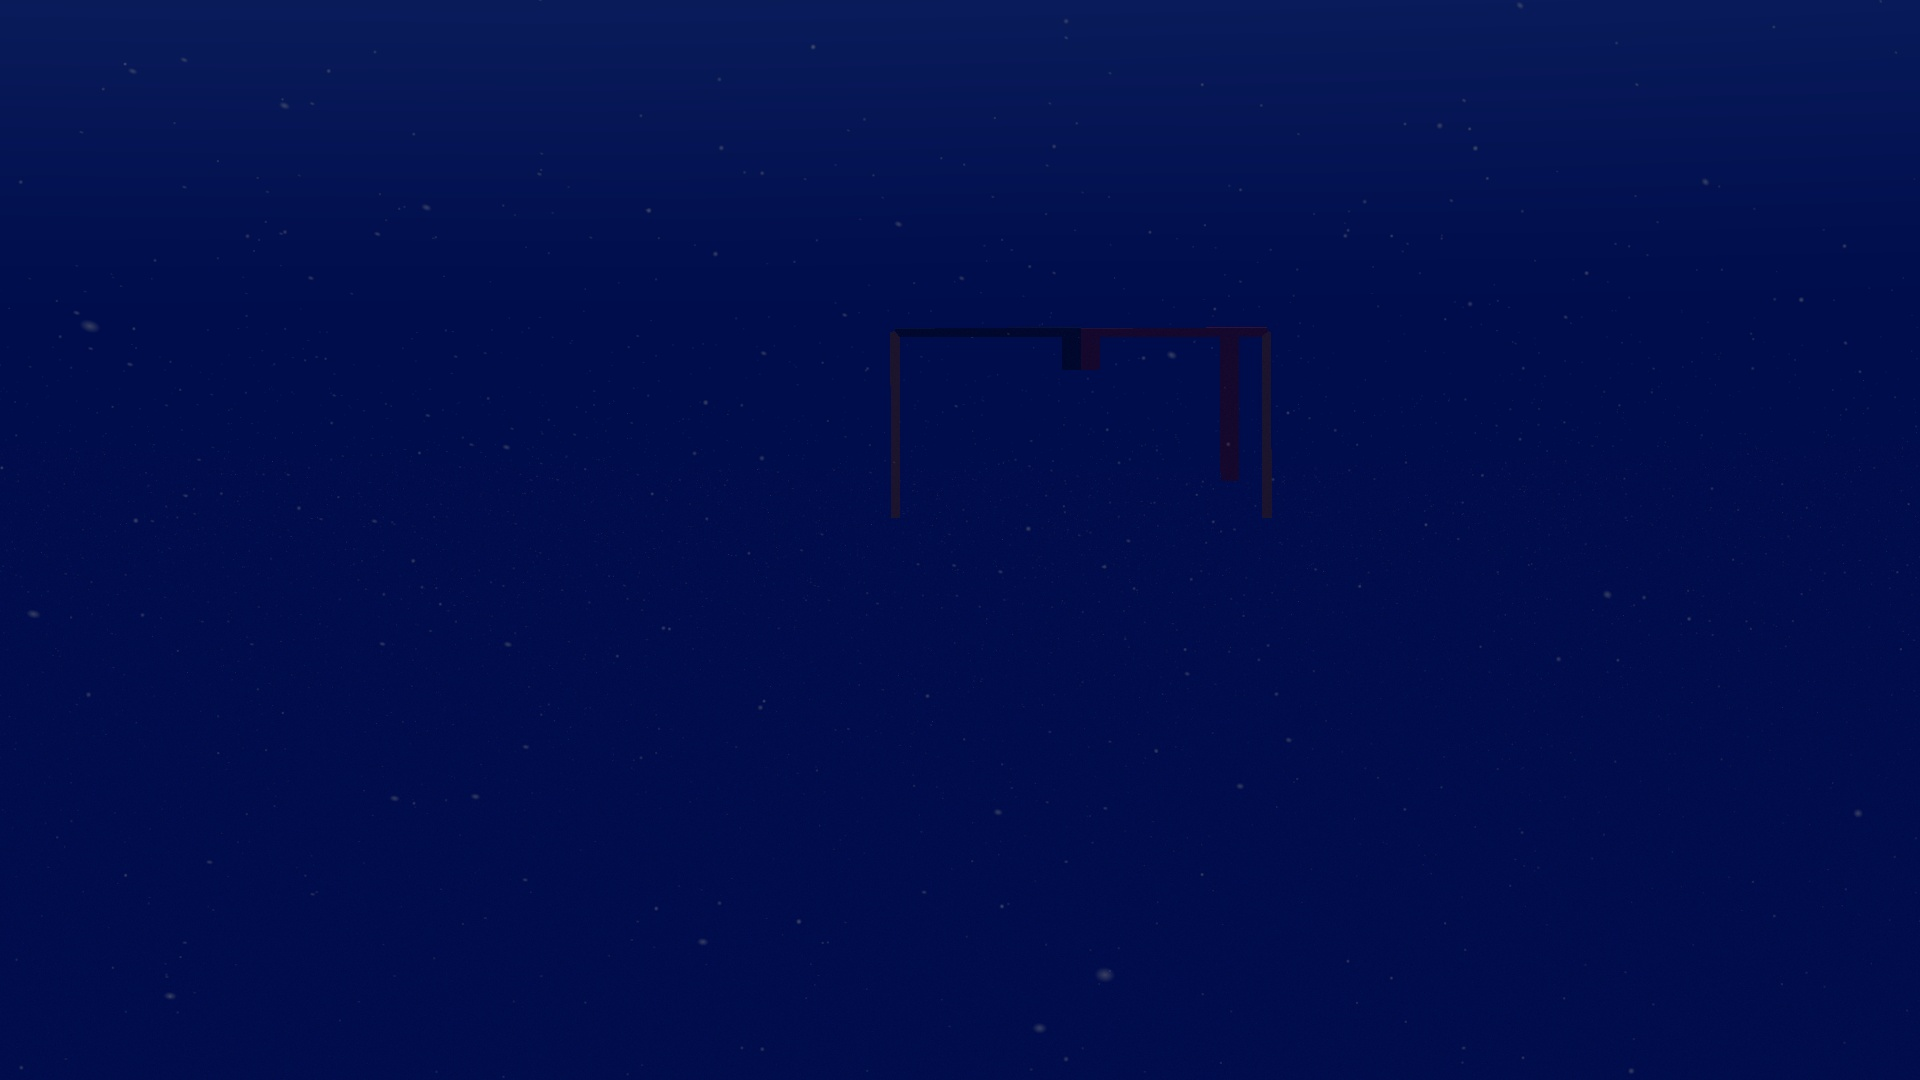Gate: (882, 322, 1280, 529)
